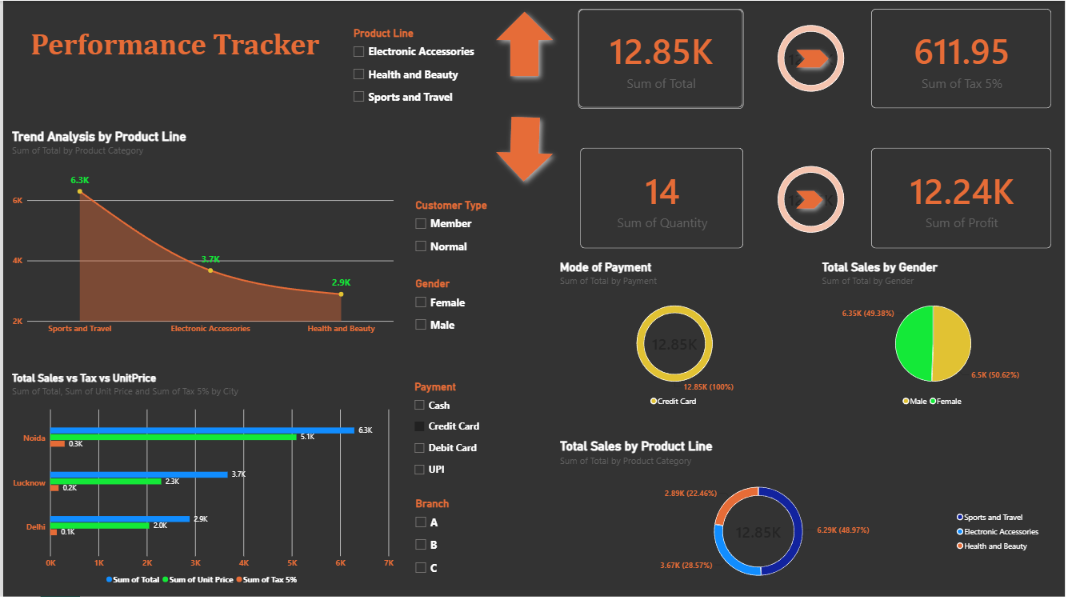

What the dashboard file says about the page in this screenshot:
{"tool":"powerbi","page":{"name":"Page 1","canvas":[1920,1080],"ordinal":0},"visuals":[{"type":"cardVisual","fields":{"Data":["Sum(Sheet1.Tax 5%)"]},"box":[1571.6,14.4,326.2,180.6],"z":0},{"type":"cardVisual","fields":{"Data":["Sum(Sheet1.Total)"]},"box":[1040.2,14.4,299.6,180.6],"z":1000},{"type":"cardVisual","fields":{"Data":["Sum(Sheet1.Quantity)"]},"box":[1044.3,266.7,295.4,182.6],"z":2000},{"type":"cardVisual","fields":{"Data":["Sum(Sheet1.Profit)"]},"box":[1571.6,266.7,326.2,182.6],"z":3000},{"type":"donutChart","title":"Mode of Payment","fields":{"Category":["Sheet1.Payment"],"Y":["Sum(Sheet1.Total)"]},"box":[991,453.4,446.7,300.5],"z":4000},{"type":"pieChart","title":"Total Sales by Gender","fields":{"Category":["Sheet1.Gender"],"Y":["Sum(Sheet1.Total)"]},"box":[1464.9,453.4,434.3,300.5],"z":5000},{"type":"donutChart","title":"Total Sales by Product Line","fields":{"Category":["Sheet1.Product Category"],"Y":["Sum(Sheet1.Total)"]},"box":[991,777.6,906.9,299.6],"z":6000},{"type":"clusteredBarChart","title":"Total Sales vs Tax vs UnitPrice","fields":{"Category":["Sheet1.City"],"Y":["Sum(Sheet1.Total)","Sum(Sheet1.Unit Price)","Sum(Sheet1.Tax 5%)"]},"box":[0,656.6,722.2,420.6],"z":7000},{"type":"areaChart","title":"Trend Analysis by Product Line","fields":{"Category":["Sheet1.Product Category"],"Y":["Sum(Sheet1.Total)"]},"box":[0,217.2,722.2,406.2],"z":8000},{"type":"shape","box":[878.1,6.2,131.3,145.7],"z":9000},{"type":"shape","box":[878.1,194.9,131.3,145.7],"z":10000},{"type":"donutChart","fields":{"Category":["Sheet1.Payment"],"Y":["Sum(Sheet1.Total)"]},"box":[1366.5,14.4,190.8,180.6],"z":11000},{"type":"donutChart","fields":{"Category":["Sheet1.Payment"],"Y":["Sum(Sheet1.Total)"]},"box":[1366.5,268.8,190.8,180.6],"z":12000},{"type":"shape","box":[1421.8,330.3,73.9,57.4],"z":13000},{"type":"shape","box":[1421.8,75.9,84.1,57.4],"z":14000},{"type":"slicer","fields":{"Values":["Sheet1.Product Category"]},"box":[625.8,47.2,252.4,170.3],"z":15000},{"type":"slicer","fields":{"Values":["Sheet1.Customer Type"]},"box":[738.6,359.1,235.9,127.2],"z":16000},{"type":"slicer","fields":{"Values":["Sheet1.Gender"]},"box":[738.6,500.6,221.6,137.5],"z":17000},{"type":"slicer","fields":{"Values":["Sheet1.Payment"]},"box":[736.6,687.3,238,180.6],"z":18000},{"type":"slicer","fields":{"Values":["Sheet1.Branch"]},"box":[738.6,898.7,238,178.5],"z":19000},{"type":"textbox","box":[14.4,47.2,611.4,170.3],"z":20000}]}

Visuals, with their boxes in screenshot pixels (x1, y1, x2, y2), scaled from the page's 1920x1080 canvas onto the 1066x597 screenshot:
cardVisual - Sum(Sheet1.Tax 5%): 873 8 1054 108
cardVisual - Sum(Sheet1.Total): 578 8 744 108
cardVisual - Sum(Sheet1.Quantity): 580 147 744 248
cardVisual - Sum(Sheet1.Profit): 873 147 1054 248
"Mode of Payment" donutChart: 550 251 798 417
"Total Sales by Gender" pieChart: 813 251 1054 417
"Total Sales by Product Line" donutChart: 550 430 1054 595
"Total Sales vs Tax vs UnitPrice" clusteredBarChart: 0 363 401 595
"Trend Analysis by Product Line" areaChart: 0 120 401 345
shape: 488 3 560 84
shape: 488 108 560 188
donutChart - Sheet1.Payment x Sum(Sheet1.Total): 759 8 865 108
donutChart - Sheet1.Payment x Sum(Sheet1.Total): 759 149 865 248
shape: 789 183 830 214
shape: 789 42 836 74
slicer - Sheet1.Product Category: 347 26 488 120
slicer - Sheet1.Customer Type: 410 199 541 269
slicer - Sheet1.Gender: 410 277 533 353
slicer - Sheet1.Payment: 409 380 541 480
slicer - Sheet1.Branch: 410 497 542 595
textbox: 8 26 347 120
